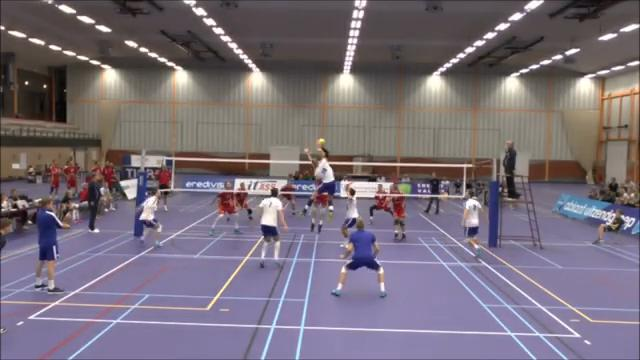attacco: (297, 136, 334, 231)
